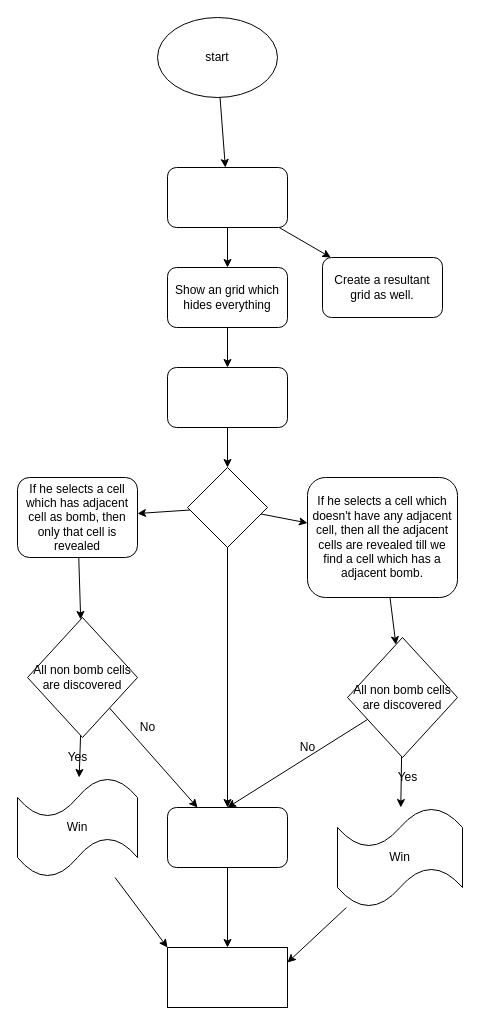
This 480x1025 diagram has some shape labels left out. Each missing label, with the centre of its shape:
"Ask the user for the difficulty" belongs at pixel 227 197.
"Ask the user to enter cell no" belongs at pixel 227 397.
"End the Game - Loose" belongs at pixel 227 837.
"Game End" belongs at pixel 227 977.
"If user selectes" belongs at pixel 227 507.
